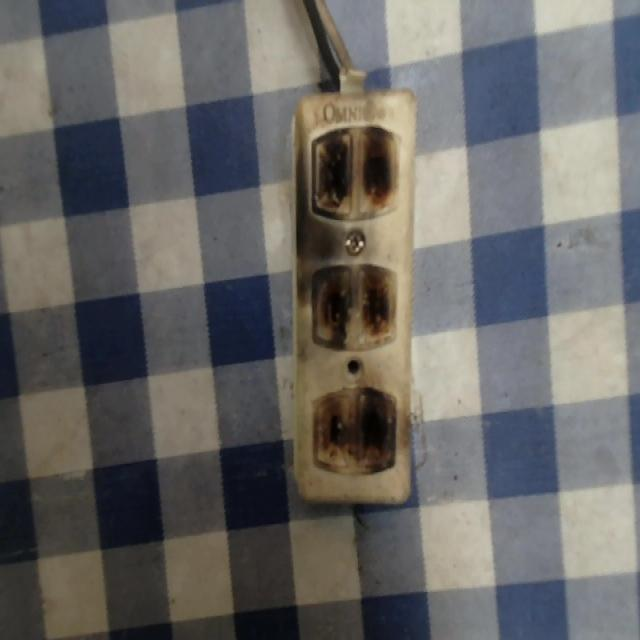-: (309, 117, 399, 219), (310, 381, 400, 476), (306, 262, 398, 350)
